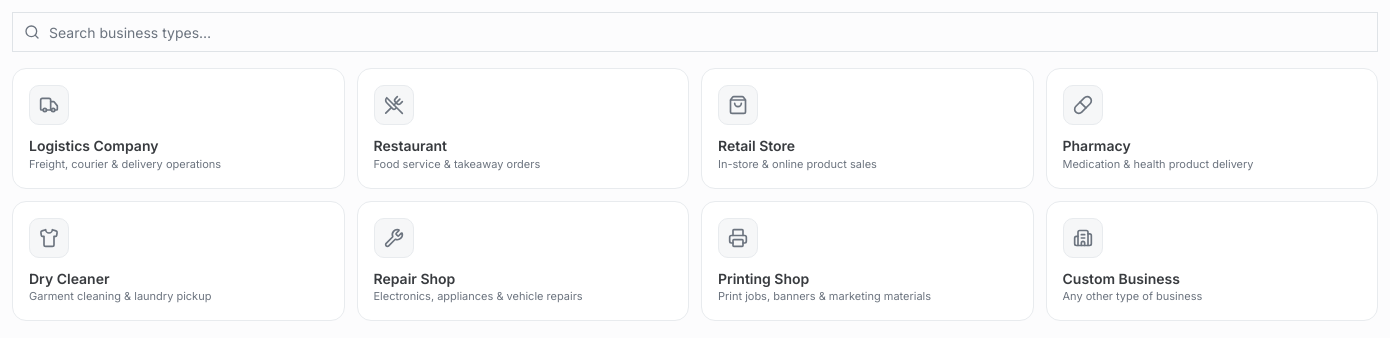
Test case: BusinessTypeSelector › filters cards when search query matches a description
Note: "courier" appears in Logistics Company's description
Type "courier" into the field labelled "Search business types".
click(695, 32); type("courier")  # box [12,12,1378,52]
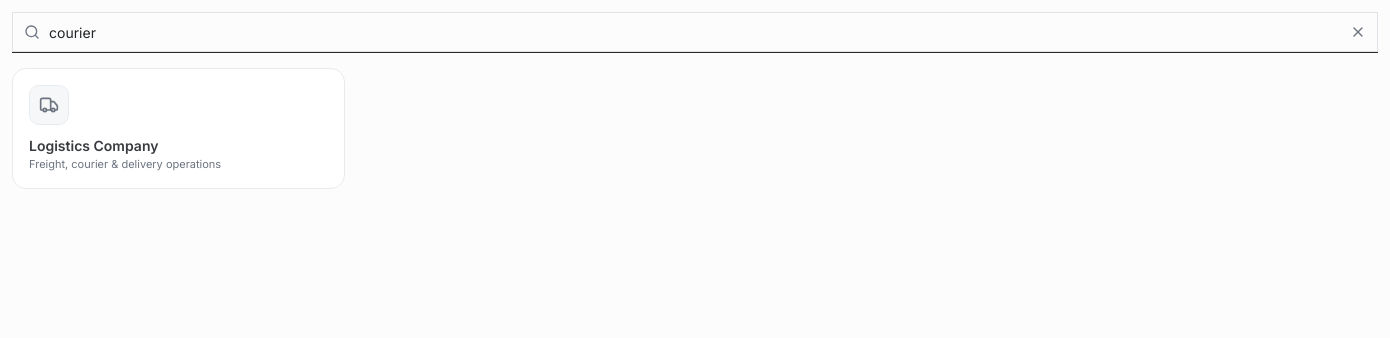
Check: the text "Logistics Company" is shown, box [29,137,158,154]
Check: the option "Restaurant" is gone
